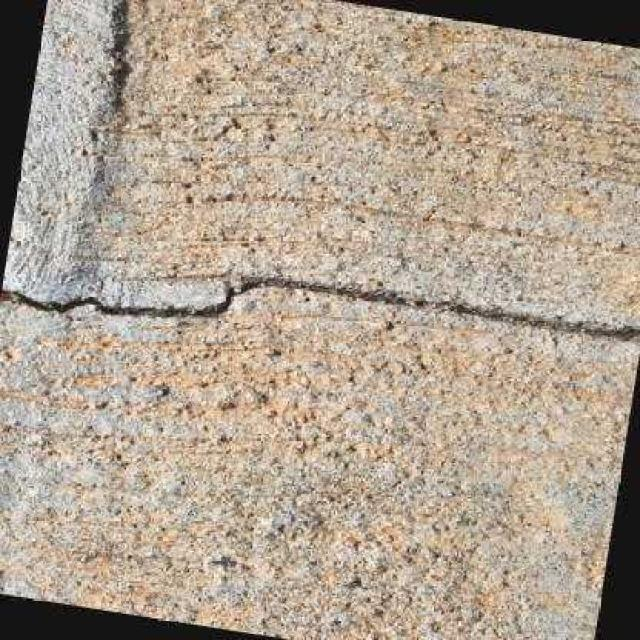D00: (0, 275, 640, 337)
